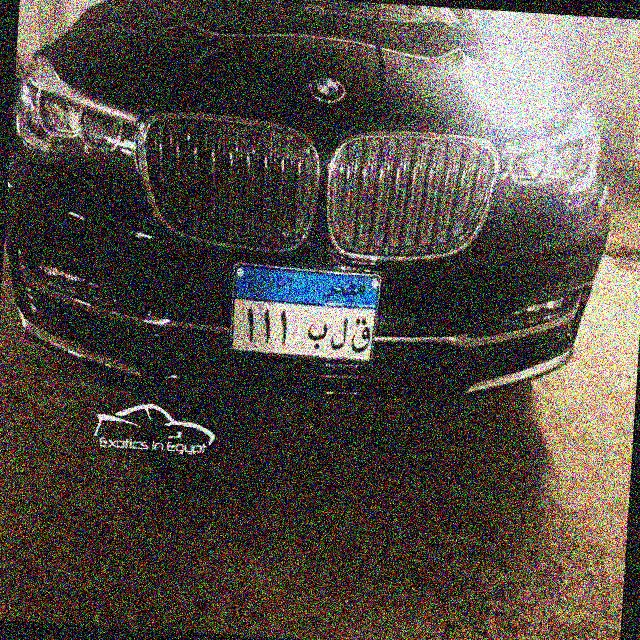License Plate: (225, 258, 385, 366)
